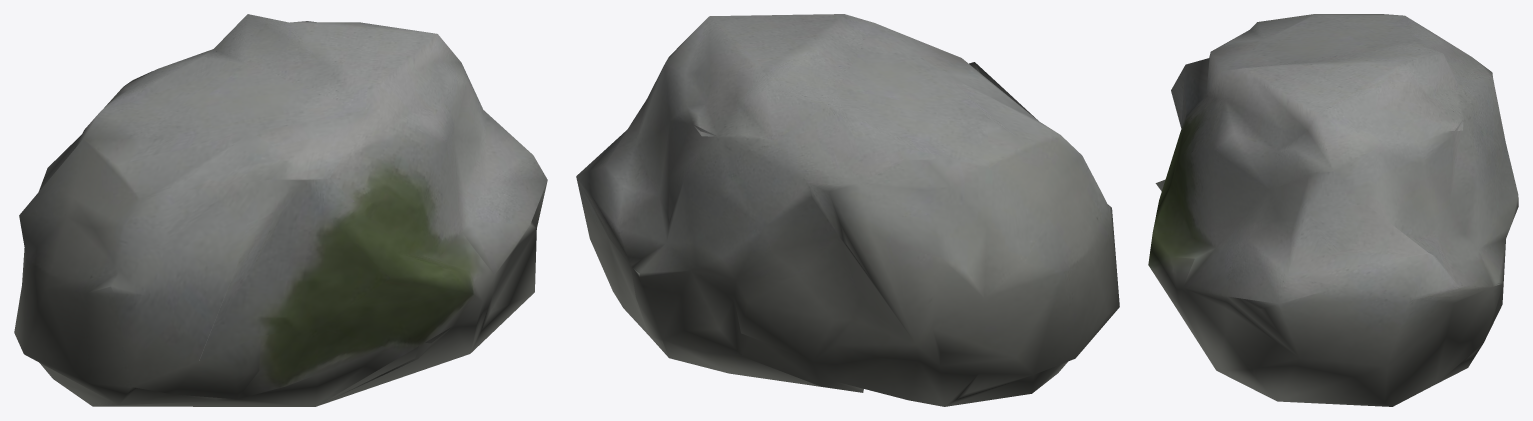
File: boulder.glb
The picture shows the model from 3 angles, left to right: view 1: azimuth 30°, elevation 25°; view 2: azimuth 150°, elevation 25°; view 3: azimuth 270°, elevation 25°; orthographic projection. The views are drawn at different scales.
Parts seen in each view (by area): view 1: tripo_node_832dd6af-8660-47f3-8881-7c72c41bad85; view 2: tripo_node_832dd6af-8660-47f3-8881-7c72c41bad85; view 3: tripo_node_832dd6af-8660-47f3-8881-7c72c41bad85.
Boxes of the visible parts, box(x1,y1,x2,y2) form: tripo_node_832dd6af-8660-47f3-8881-7c72c41bad85: box(14, 14, 547, 406); tripo_node_832dd6af-8660-47f3-8881-7c72c41bad85: box(576, 14, 1119, 406); tripo_node_832dd6af-8660-47f3-8881-7c72c41bad85: box(1148, 14, 1518, 406).
Bounding box in the file's own units: 1 × 0.5684 × 0.6896.
Materials: 1 (1 with a texture image).
